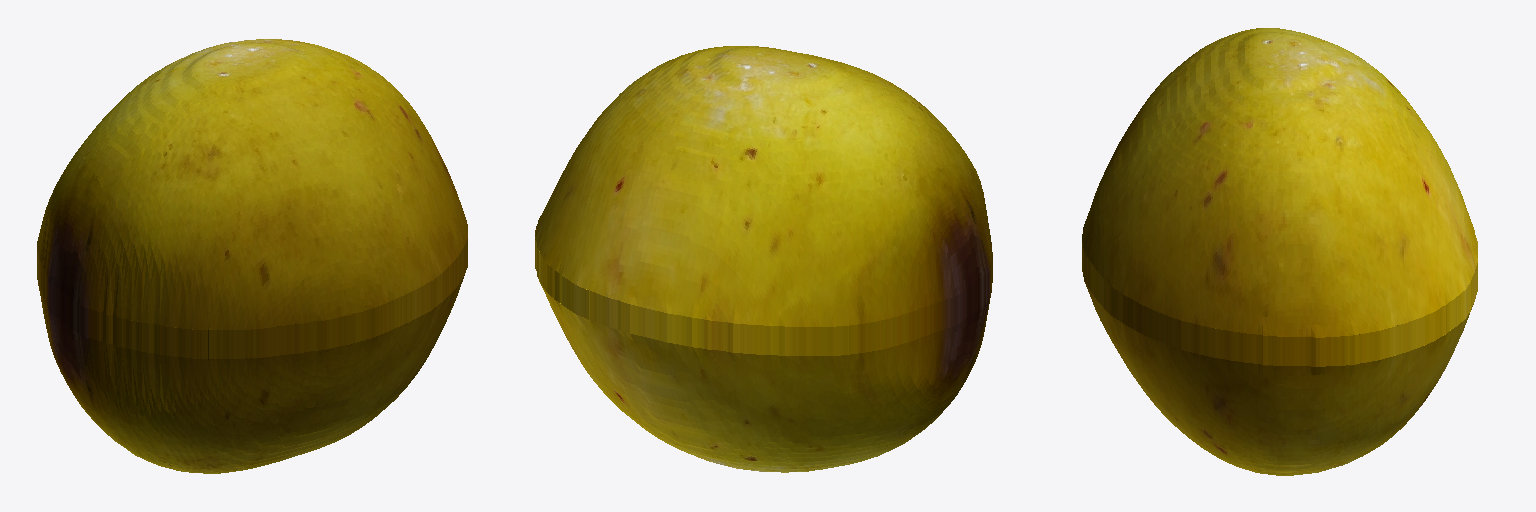
3 views of the same model, side by side, from view 1: azimuth 30°, elevation 25°; view 2: azimuth 150°, elevation 25°; view 3: azimuth 270°, elevation 25° (orthographic).
Visible parts, largest first — view 1: Grid; view 2: Grid; view 3: Grid.
Part boxes in pixels (bbox=[...]): Grid: bbox=[37, 39, 467, 473]; Grid: bbox=[535, 46, 992, 472]; Grid: bbox=[1082, 28, 1477, 475].
Size of the model in its own units: 1.7 by 1.61 by 1.47.
1 materials, 1 textured.